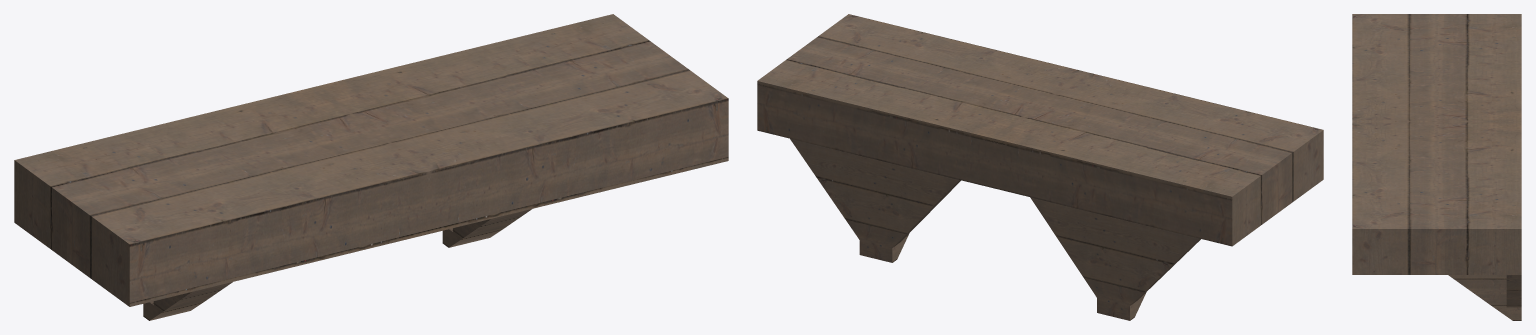
File: small_shelf.glb
3 views of the same model, side by side, from view 1: azimuth 30°, elevation 25°; view 2: azimuth 150°, elevation 25°; view 3: azimuth 270°, elevation 25° (orthographic). The views are drawn at different scales.
Parts seen in each view (by area): view 1: Box003; view 2: Box003; view 3: Box003.
Boxes of the visible parts, <box> form: Box003: <box>14,14,728,320</box>; Box003: <box>757,14,1323,320</box>; Box003: <box>1352,14,1521,320</box>.
Size of the model in its own units: 30 by 9 by 10.
Materials: 1 (1 with a texture image).
